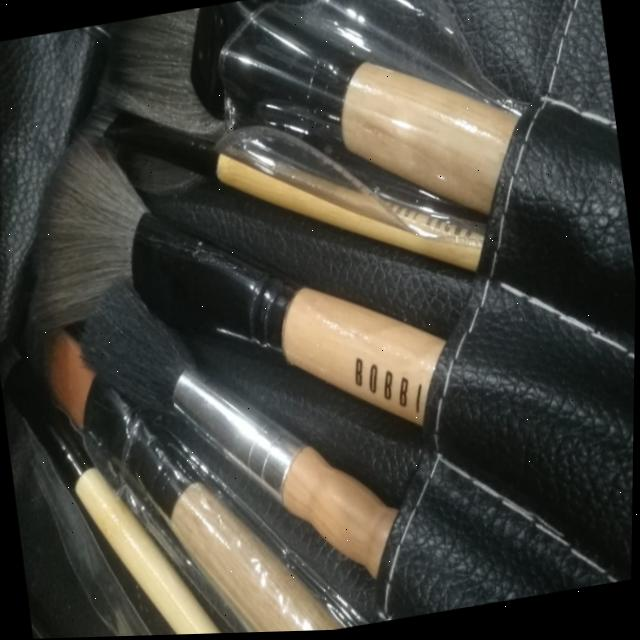brush: (11, 101, 257, 397), (77, 0, 327, 178), (67, 252, 239, 469), (22, 316, 141, 490)
